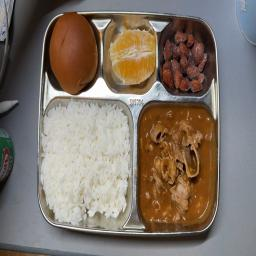100_beef: (140, 109, 211, 224)
100_bread: (49, 15, 98, 93)
100_nuts: (159, 28, 208, 94)
100_orange: (107, 23, 158, 88)
100_rice: (43, 105, 130, 221)
